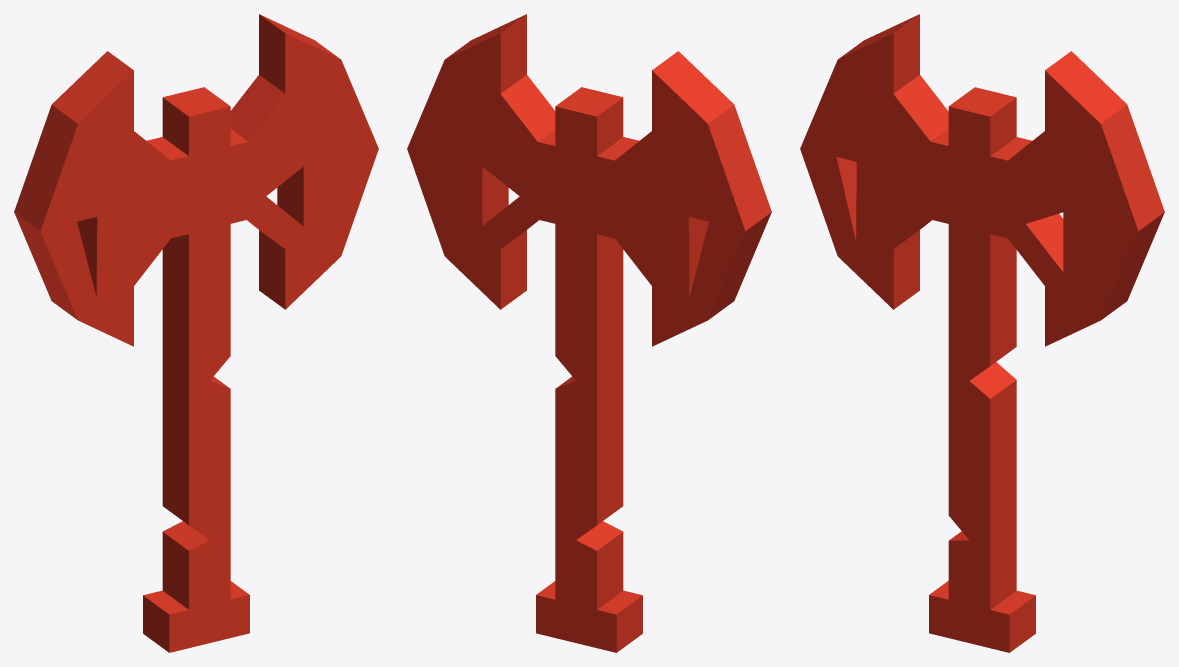
Rendered from Icon_Axe_01.fbx.
3 renders of one model, left to right at view 1: azimuth 30°, elevation 25°; view 2: azimuth 150°, elevation 25°; view 3: azimuth 330°, elevation 25°, orthographic.
Parts seen in each view (by area): view 1: Icon_Axe_01; view 2: Icon_Axe_01; view 3: Icon_Axe_01.
Part boxes in pixels (x1,y1,x2,y2): Icon_Axe_01: (14,14,378,652); Icon_Axe_01: (407,14,771,652); Icon_Axe_01: (800,14,1164,652).
Bounding box in the file's own units: 47.44 × 79.21 × 6.42.
